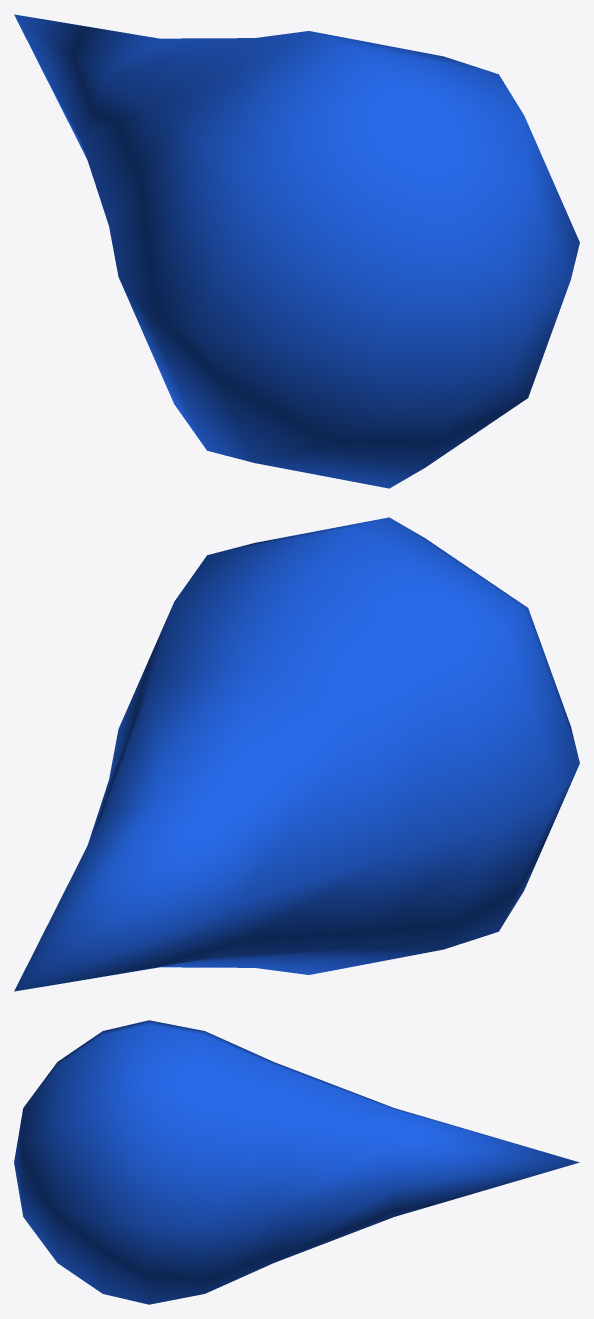
Rendered from WaterProjectile.fbx.
The picture shows the model from 3 angles, top to bottom: view 1: azimuth 30°, elevation 25°; view 2: azimuth 150°, elevation 25°; view 3: azimuth 270°, elevation 25°; orthographic projection. The views are drawn at different scales.
Visible parts, largest first — view 1: Sphere; view 2: Sphere; view 3: Sphere.
Part boxes in pixels (x1,y1,x2,y2): Sphere: (14, 14, 579, 488); Sphere: (14, 517, 579, 991); Sphere: (14, 1020, 579, 1304).
Bounding box in the file's own units: 35.62 × 35.62 × 66.59.
